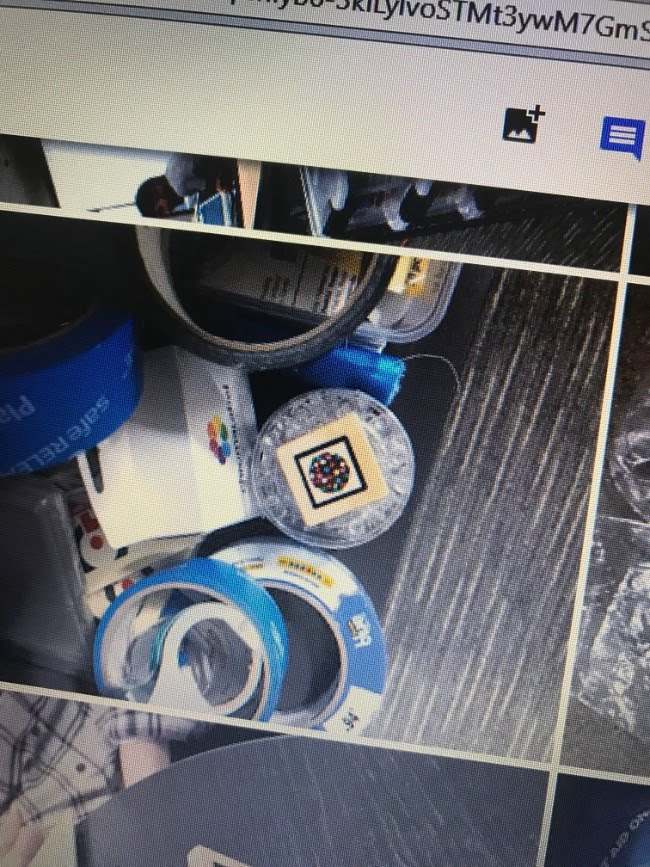cookie: (294, 435, 368, 508)
